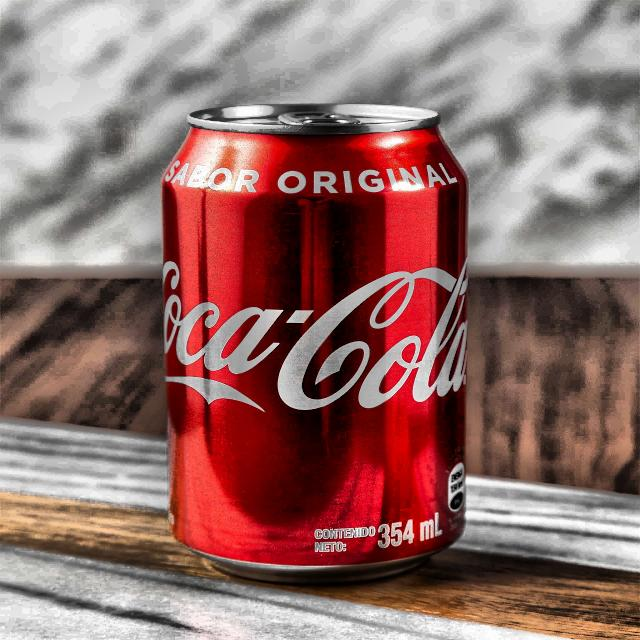Cans: (143, 98, 470, 588)
